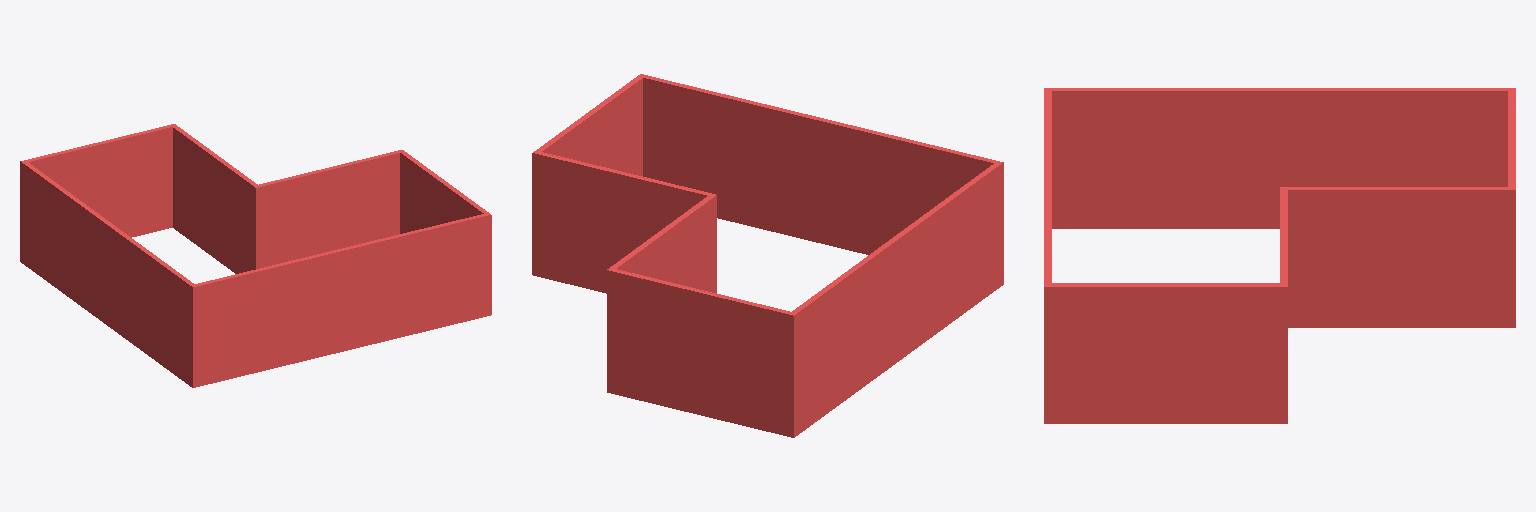
The robot description file, URDF, robot "l_room.urdf":
<?xml version="1.0" ?>
<robot name="l_room.urdf">
  <link concave="yes" name="baseLink">
    <inertial>
      <origin rpy="0 0 0" xyz="0.0 0.0 0.0"/>
       <mass value=".0"/>
       <inertia ixx="0" ixy="0" ixz="0" iyy="0" iyz="0" izz="0"/>
    </inertial>

    <visual>
      <origin rpy="1.57075 0 0" xyz="0 0 0"/>
      <geometry>
        <mesh filename="l_room.obj" scale="1 1 1"/>
      </geometry>
       <material name="red">
        <color rgba="1 0.4 0.4 1"/>
      </material>
    </visual>

    <collision concave="yes">
      <origin rpy="1.57075 0 0" xyz="0 0 0"/>
      <geometry>
	 	    <mesh filename="l_room.obj" scale="1 1 1"/>
      </geometry>
    </collision>
  </link>
</robot>

--- Render facts (derived) ---
Views: 3 orthographic renders of the robot side by side, from view 1: azimuth 30°, elevation 25°; view 2: azimuth 150°, elevation 25°; view 3: azimuth 270°, elevation 25°.
Model l_room.urdf with 1 links and 0 joints (none), rooted at baseLink, posed every joint at zero.
Links seen in each view (by area): view 1: baseLink; view 2: baseLink; view 3: baseLink.
Boxes of the visible links, <box> form: baseLink: <box>20,124,491,387</box>; baseLink: <box>532,74,1003,437</box>; baseLink: <box>1044,88,1515,423</box>.
Bounding box of the posed robot: 6.2 × 6.2 × 2 m (x, y, z).
1 mesh visuals loaded from 1 distinct referenced files (1 OBJ).
